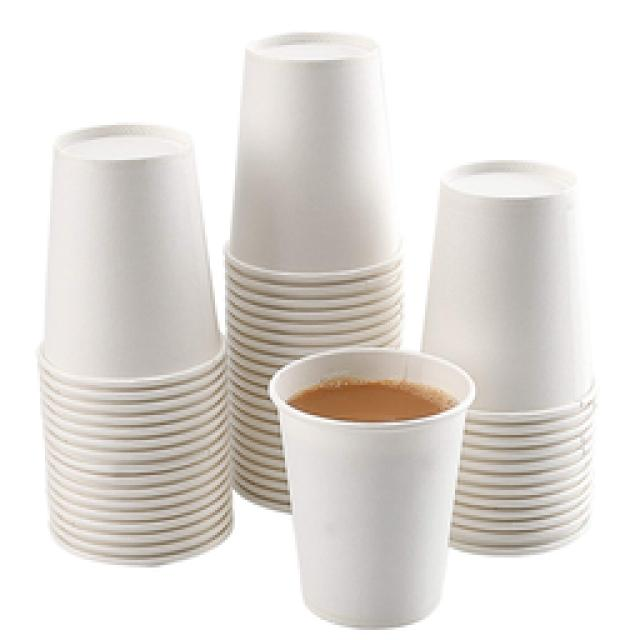paper_cups: (271, 340, 473, 636), (40, 122, 228, 432), (423, 159, 603, 454), (223, 28, 408, 314)
